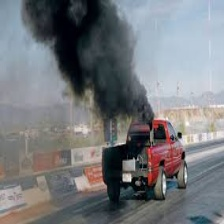smoke: (22, 1, 152, 117)
